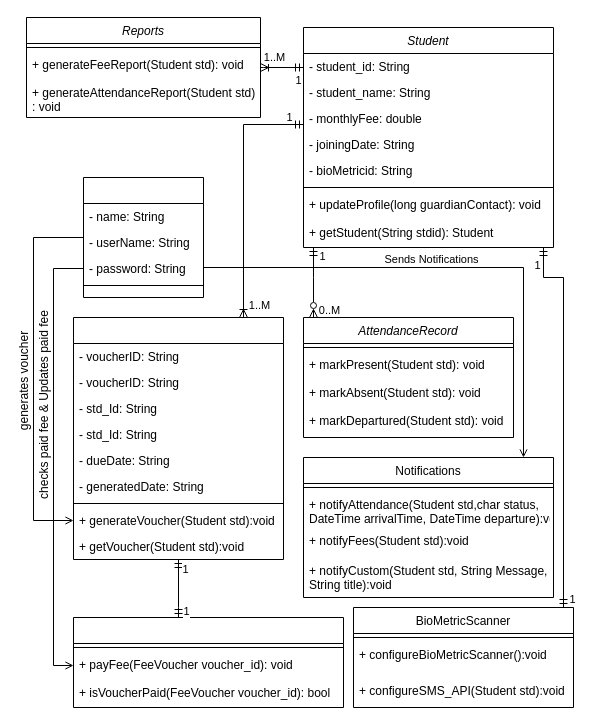
The diagram is 592 pixels wide and 728 high, and some of its shapes have lost their labels. The shapes that lost their labels are listed below. From the top down, each one's box as (x1, y1, x2, y2) in pixels, then its label:
(82, 176, 204, 298): Admin
(72, 316, 284, 560): Fee Voucher
(72, 616, 344, 708): FeeRecordManager
